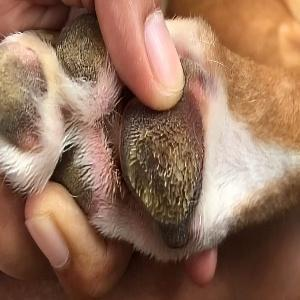keratosis: (124, 115, 207, 250)
